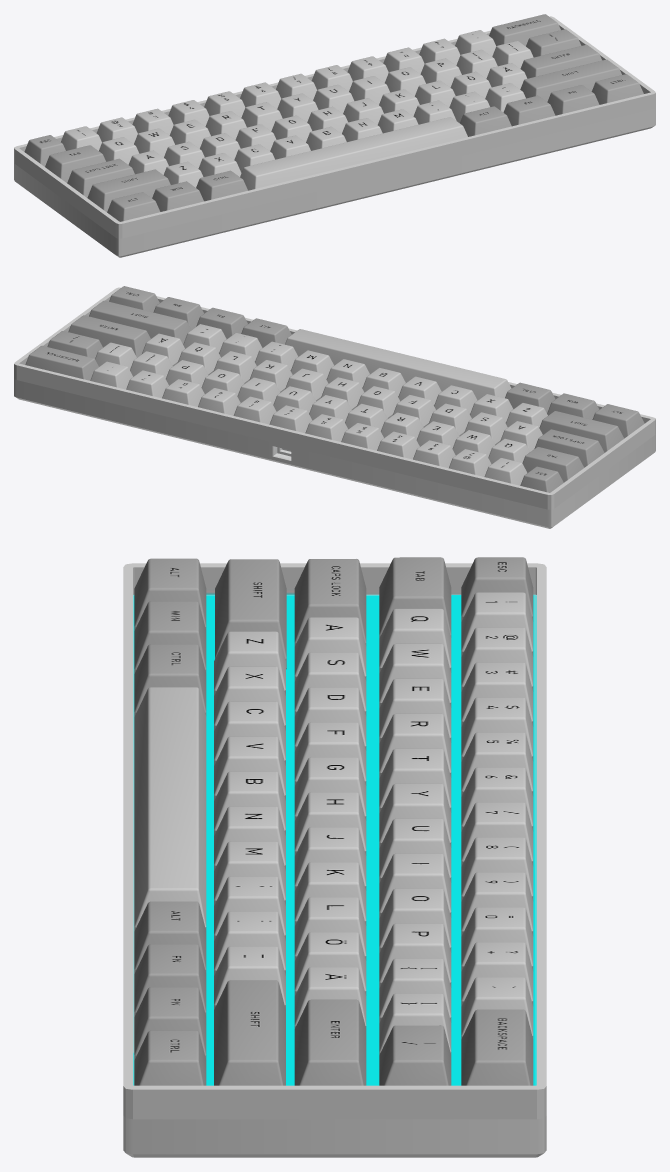
Rendered from keyboard.glb.
The picture shows the model from 3 angles, top to bottom: view 1: azimuth 30°, elevation 25°; view 2: azimuth 150°, elevation 25°; view 3: azimuth 270°, elevation 25°; orthographic projection. The views are drawn at different scales.
Parts seen in each view (by area): view 1: Keycap, BackPlate; view 2: Keycap, BackPlate; view 3: Keycap, BackPlate.
Part boxes in pixels (left/top/right/bottom): Keycap: left=24, top=14, right=643, bottom=221; BackPlate: left=14, top=16, right=655, bottom=257; Keycap: left=25, top=286, right=644, bottom=492; BackPlate: left=14, top=287, right=655, bottom=528; Keycap: left=134, top=557, right=533, bottom=1085; BackPlate: left=123, top=563, right=546, bottom=1157.
Bounding box in the file's own units: 129 × 10.14 × 43.84.
Materials: 2 (2 with a texture image).
